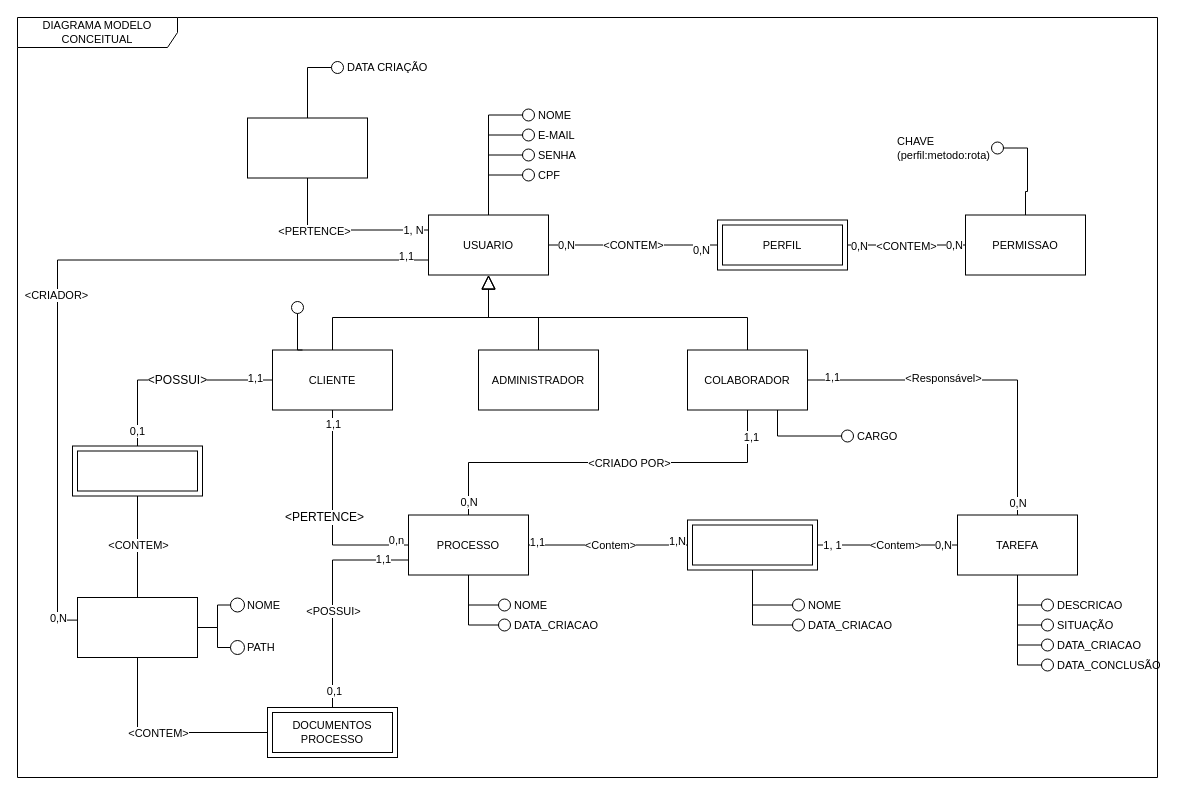
Some shapes in this 1183 by 795 pixel diagram are drawn without their labels. Each missing label, with the box of its shape:
CONTATO: (227, 297, 297, 317)
DOCUMENTO: (76, 596, 198, 658)
DOCUMENTOS PESSOAIS: (72, 445, 202, 496)
LISTA TAREFAS: (686, 519, 818, 570)
TOKEN: (246, 117, 368, 178)
